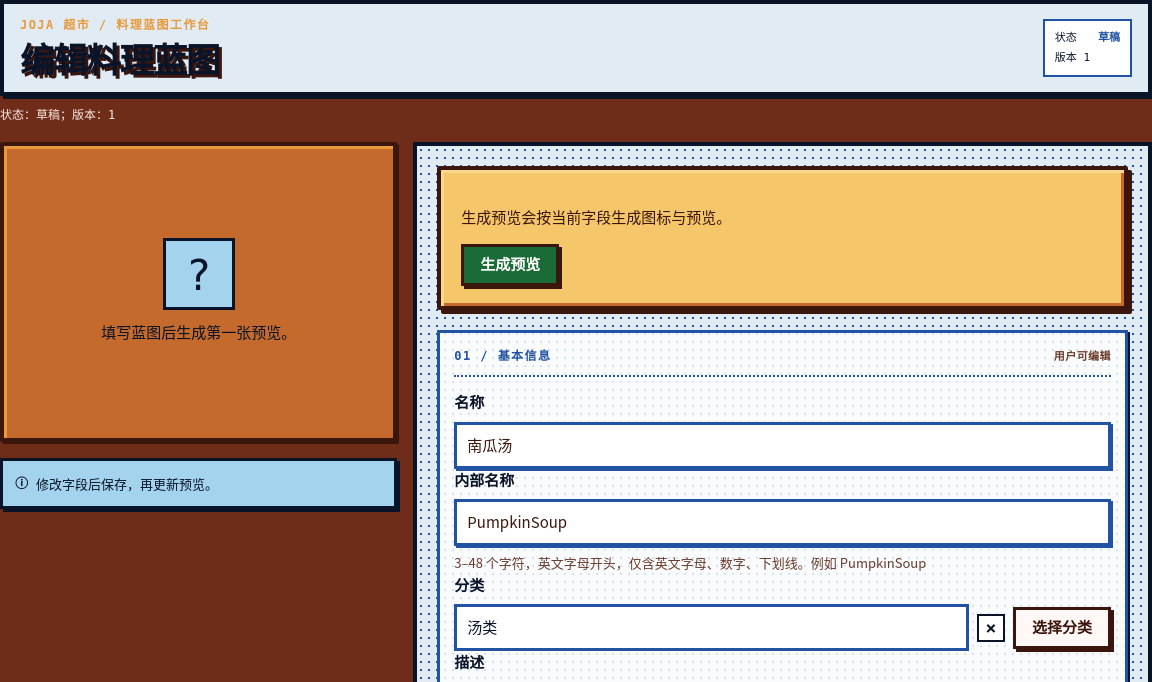
Test: blueprint editor › removes the selected category and allows choosing it again
Expected: the field showing "南瓜汤" is shown, [454,422,1111,469]
Click the button named "移除分类：汤类" at (991, 628), box [977,614,1005,642]
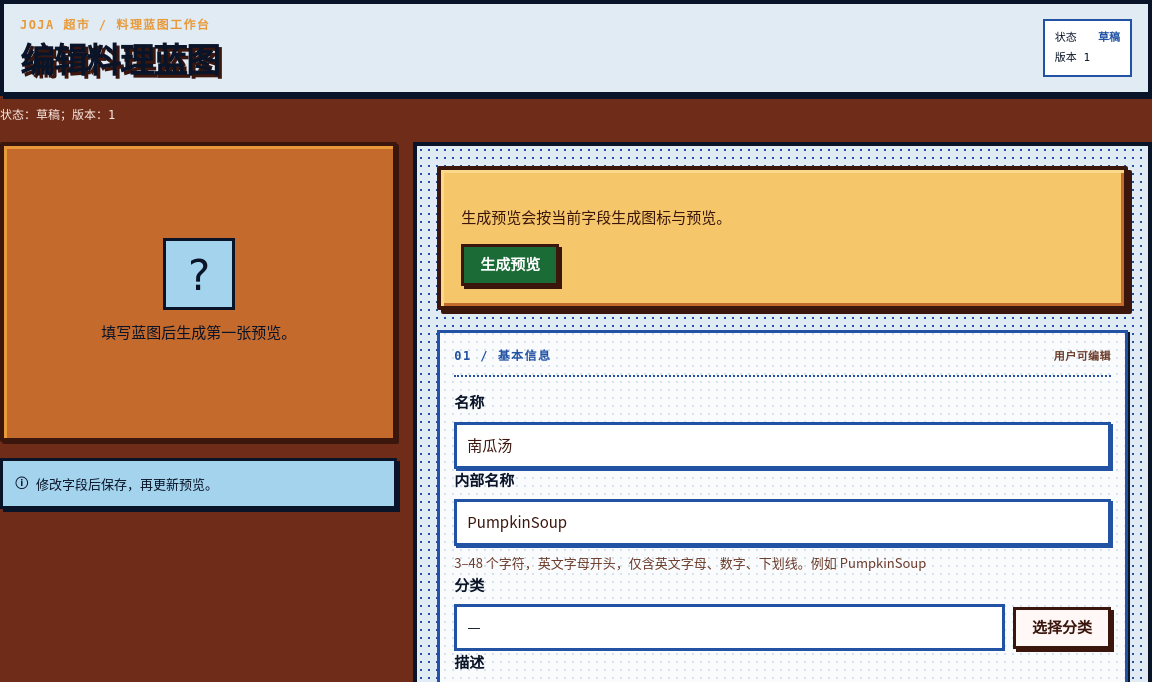
Expected: the text "—" is shown, [454,604,1005,651]
Expected: the text "汤类" is gone
Click the button "选择分类" at (1062, 628), box [1013,607,1111,649]
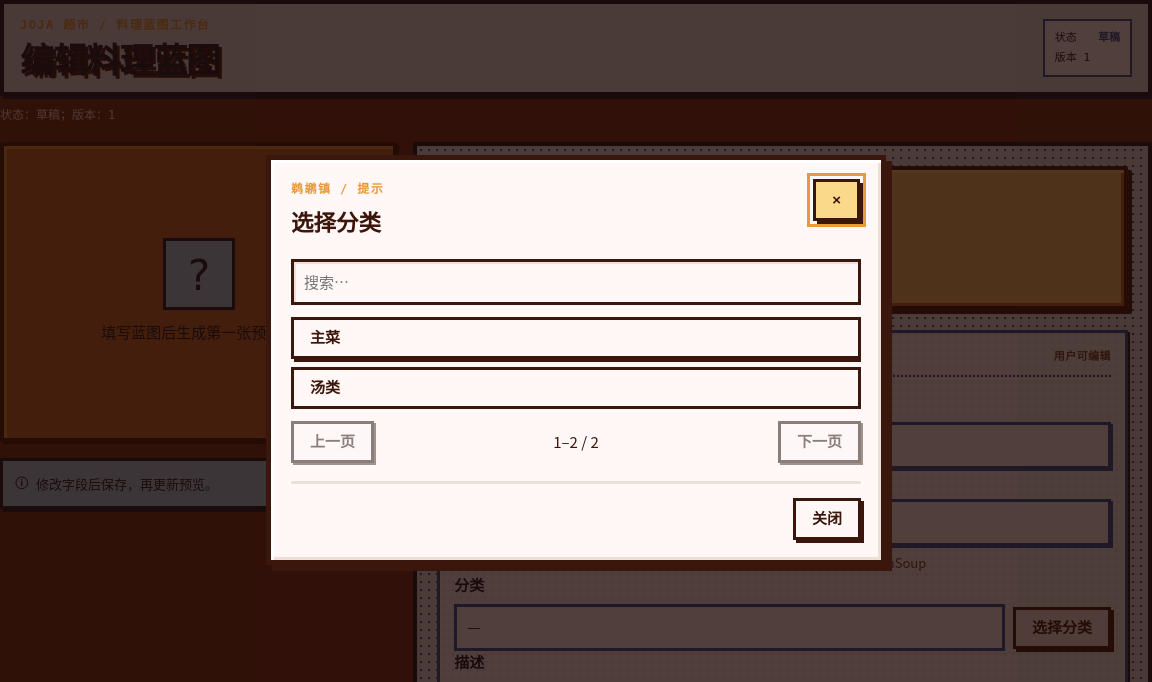
Click the button "主菜" at (325, 338), box [291,317,861,359]
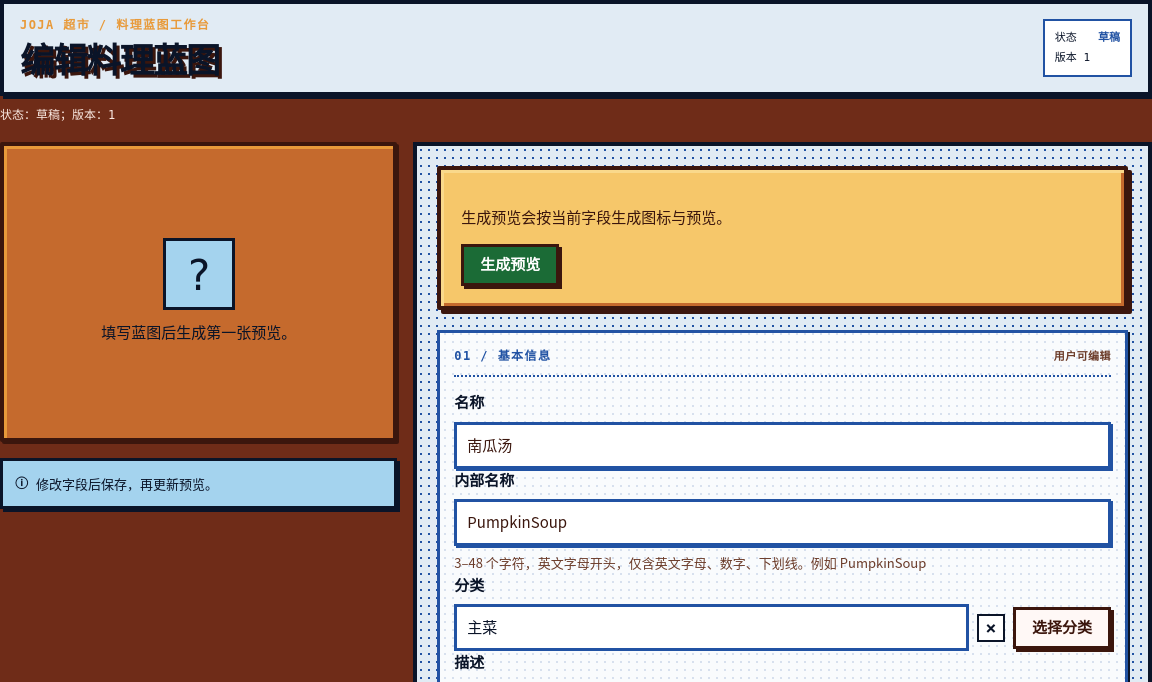
Expected: the button named "移除分类：主菜" is shown, [977,614,1005,642]
Expected: the text "主菜" is shown, [454,604,969,651]
